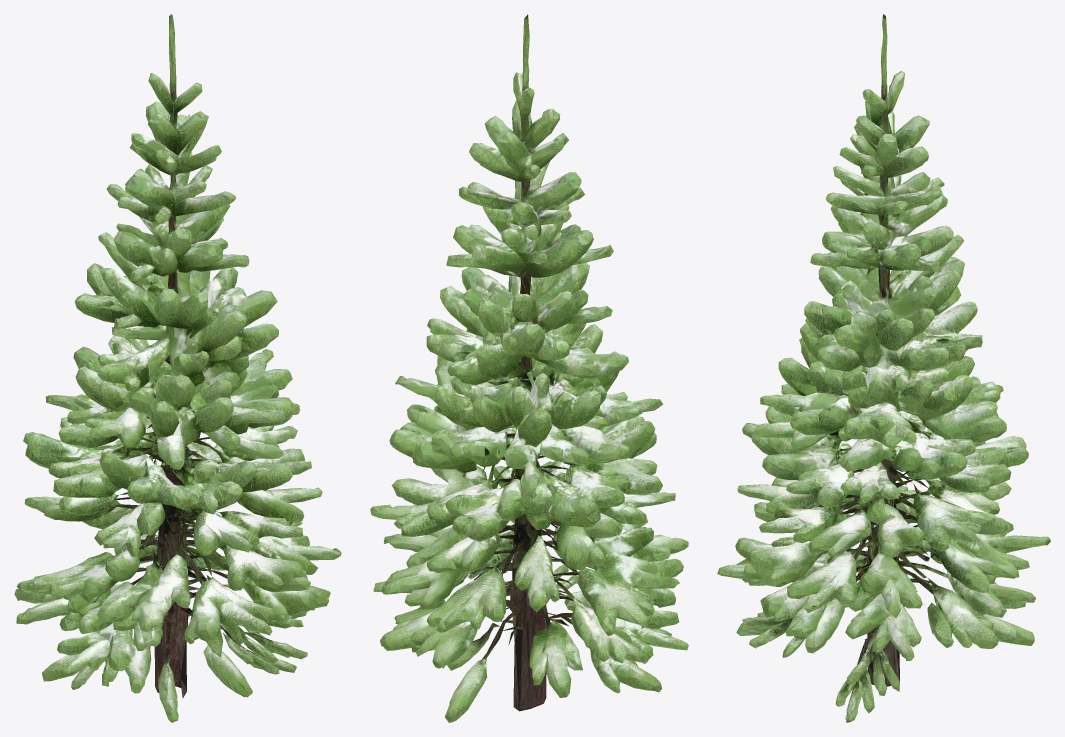
File: pine_tree2.glb
The picture shows the model from 3 angles, left to right: view 1: azimuth 30°, elevation 25°; view 2: azimuth 150°, elevation 25°; view 3: azimuth 270°, elevation 25°; orthographic projection. The views are drawn at different scales.
Bounding box in the file's own units: 0.8007 × 1.89 × 0.857.
1 material, 1 textured.
